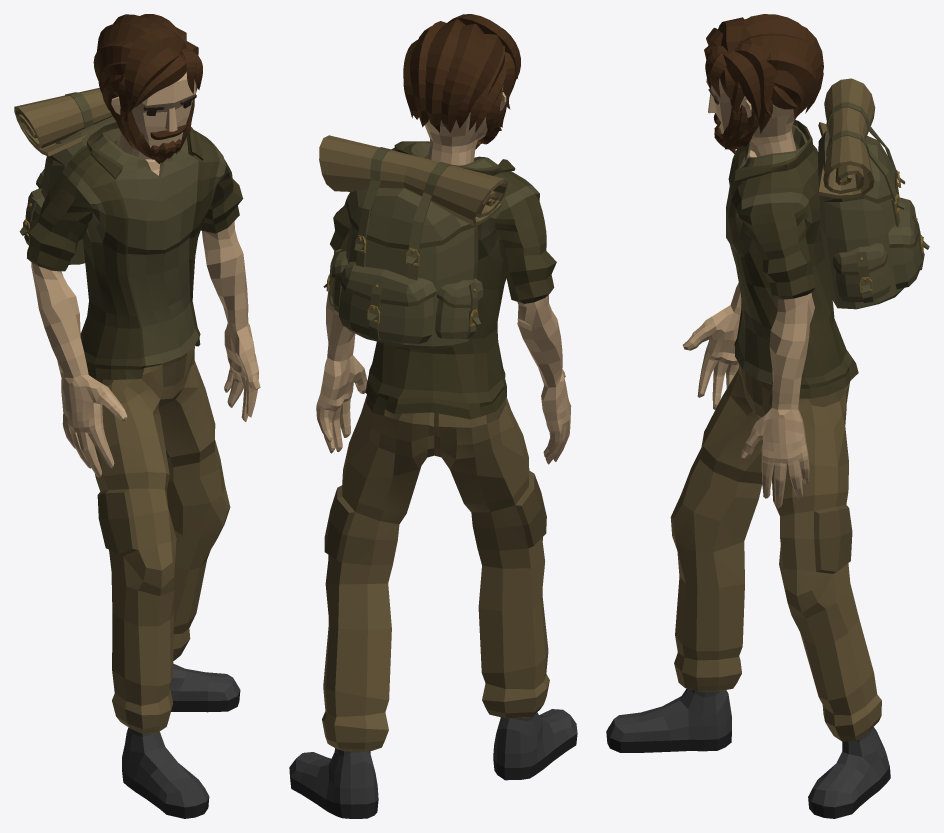
Rendered from Hiker.glb.
3 views of the same model, side by side, from view 1: azimuth 30°, elevation 25°; view 2: azimuth 150°, elevation 25°; view 3: azimuth 270°, elevation 25° (orthographic). The views are drawn at different scales.
Visible parts, largest first — view 1: Adventurer_Body; view 2: Adventurer_Body; view 3: Adventurer_Body.
Boxes of the visible parts, x1,y1,x2,y2 form: Adventurer_Body: [14, 14, 260, 818]; Adventurer_Body: [289, 14, 577, 818]; Adventurer_Body: [606, 14, 929, 818].
Size of the model in its own units: 0.5962 by 1.81 by 0.7201.
